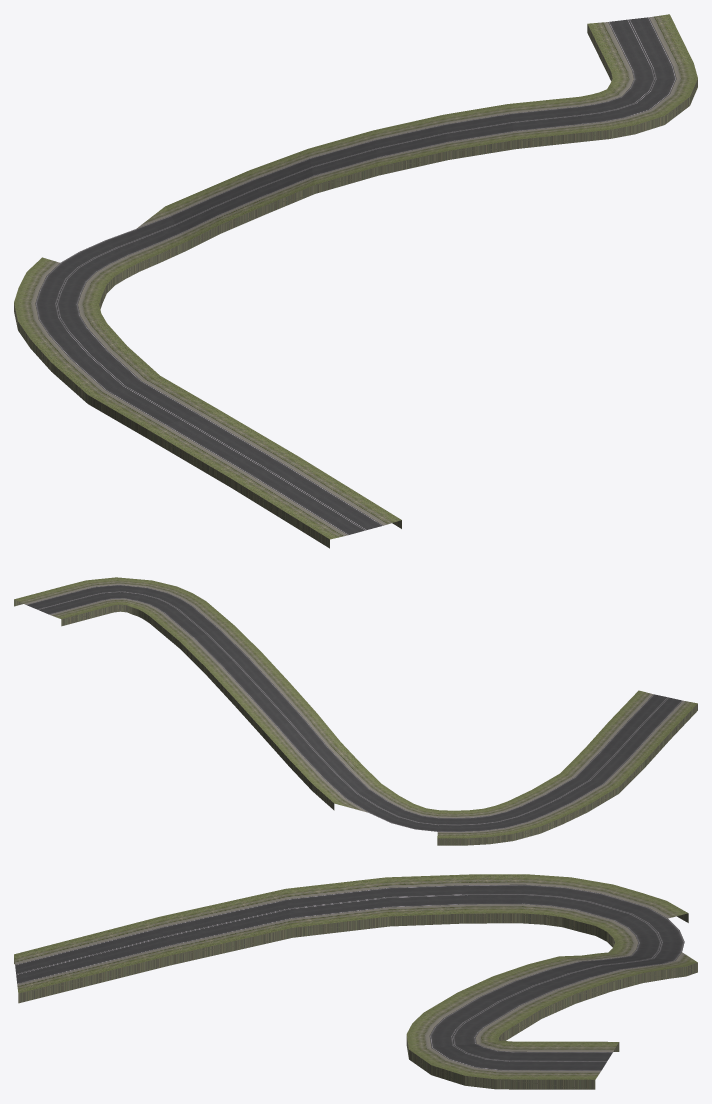
The model's file is sfshill08.obj.
3 views of the same model, one above another, from view 1: azimuth 30°, elevation 25°; view 2: azimuth 150°, elevation 25°; view 3: azimuth 270°, elevation 25° (orthographic). The views are drawn at different scales.
Visible parts, largest first — view 1: sfshill08; view 2: sfshill08; view 3: sfshill08.
Part boxes in pixels (bbox=[...]): sfshill08: bbox=[14, 14, 697, 548]; sfshill08: bbox=[14, 577, 697, 845]; sfshill08: bbox=[14, 874, 697, 1089].
Size of the model in its own units: 183 by 49.15 by 148.
2 materials, 2 textured.
